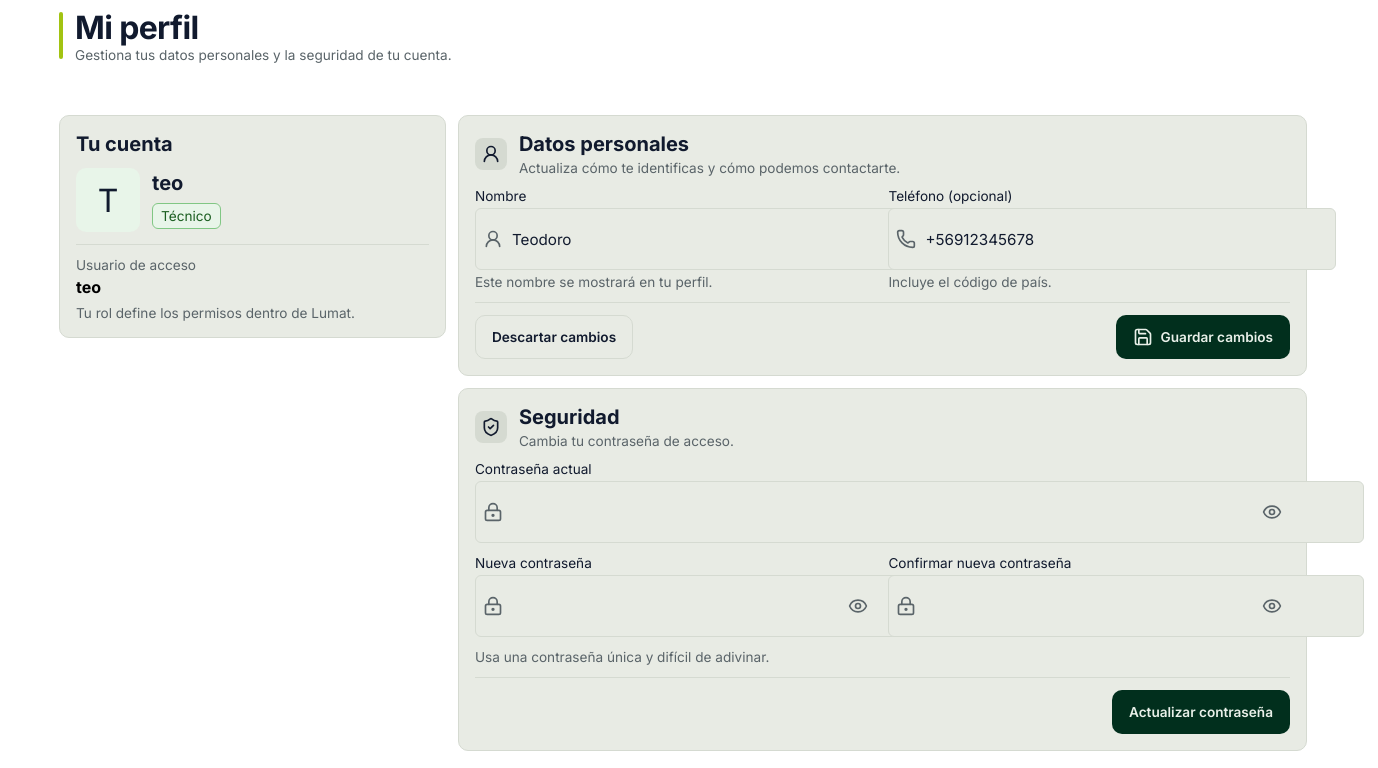
Test: SelfProfile › restores the stored values when discarding unsaved edits
Replace the text in the field labelled "Nombre" with "Otro nombre" at (699, 239), box [475,208,922,270]
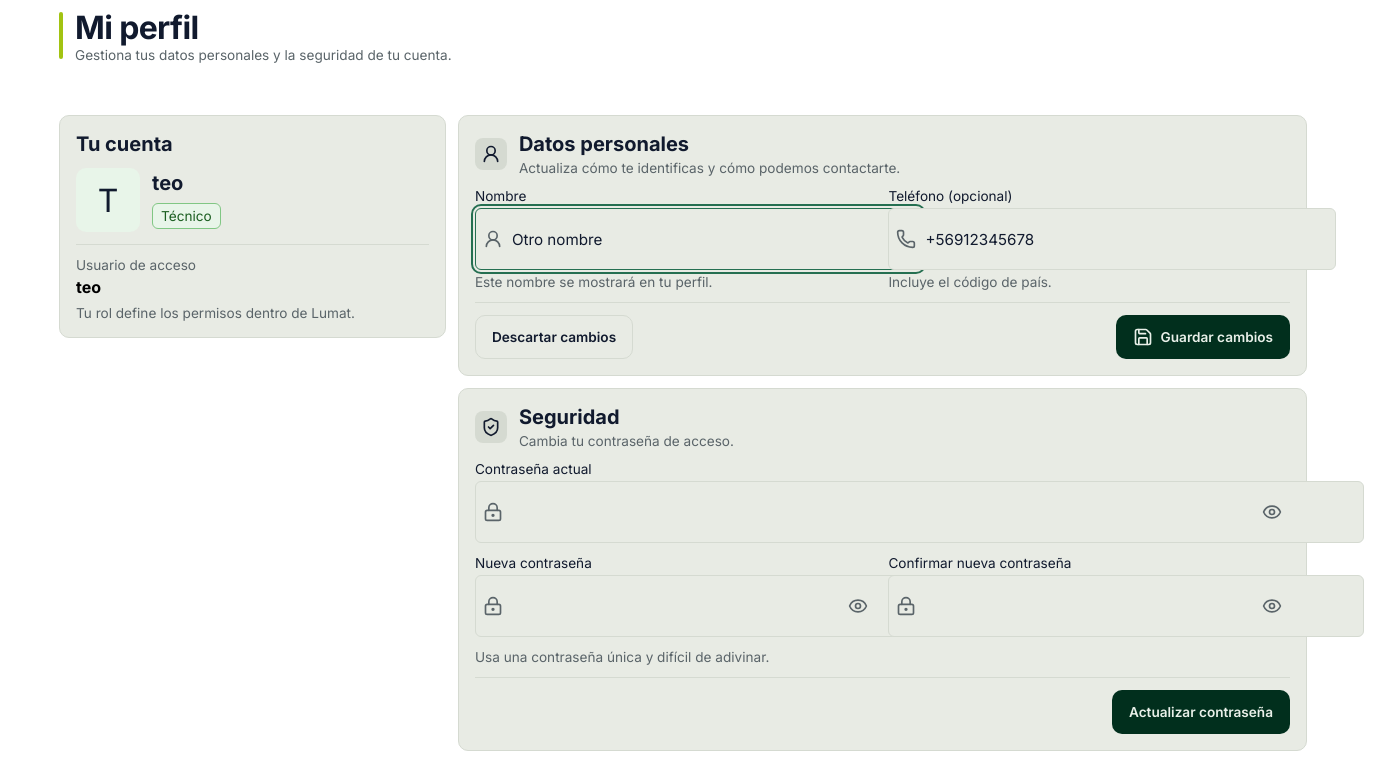
Click the button "Descartar cambios" at (554, 337), box [475,315,633,359]
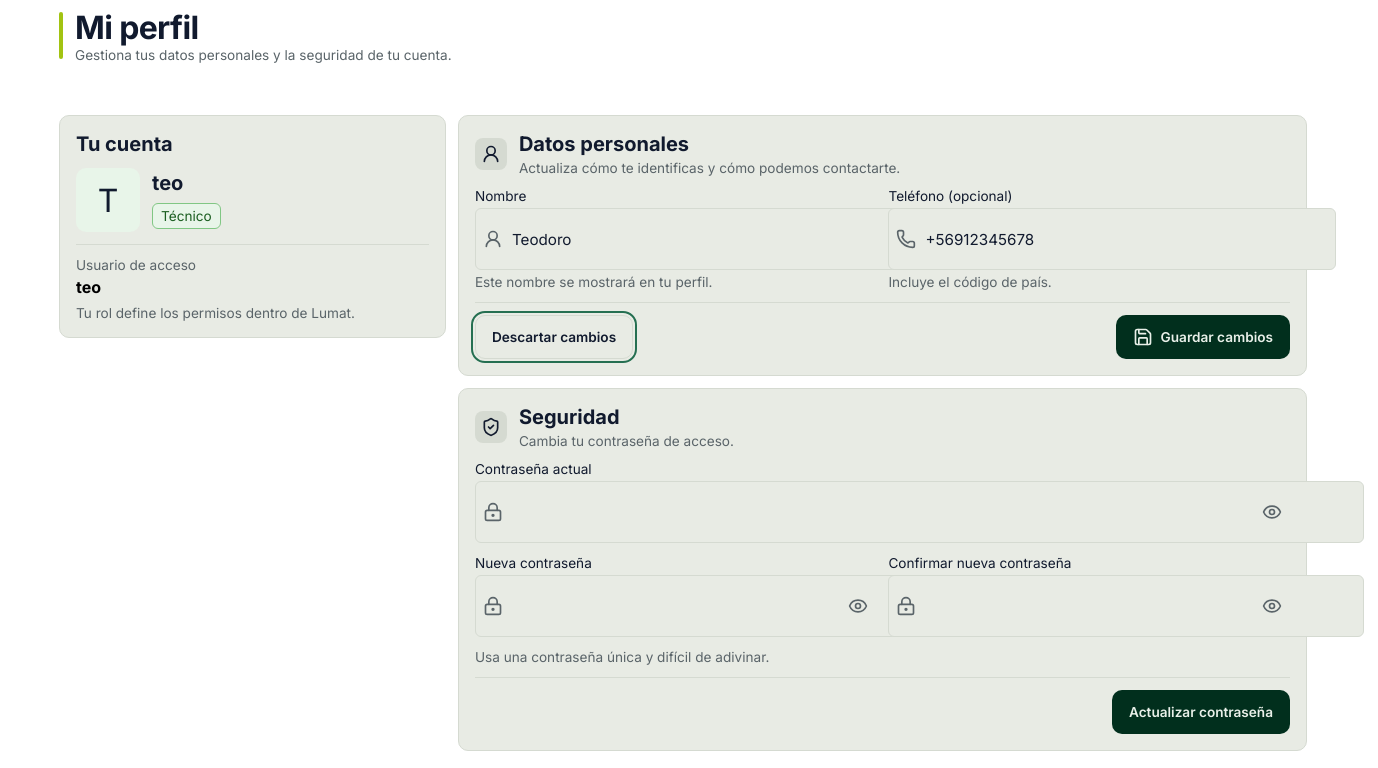
Result: the field labelled "Nombre" holds "Teodoro" at [475,208,922,270]
